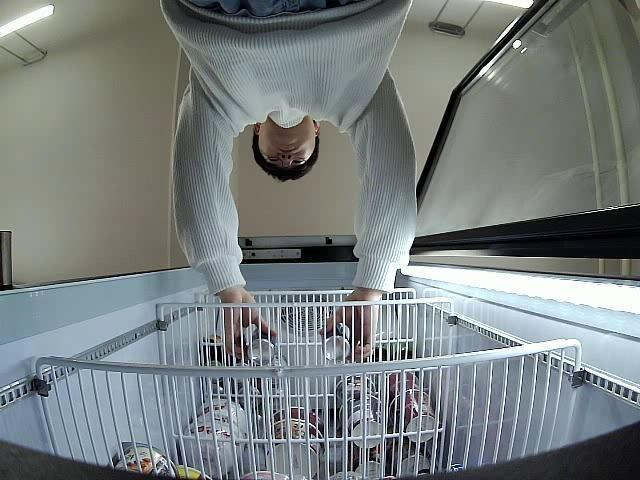16_hot6: (247, 324, 274, 364), (324, 322, 351, 360)
